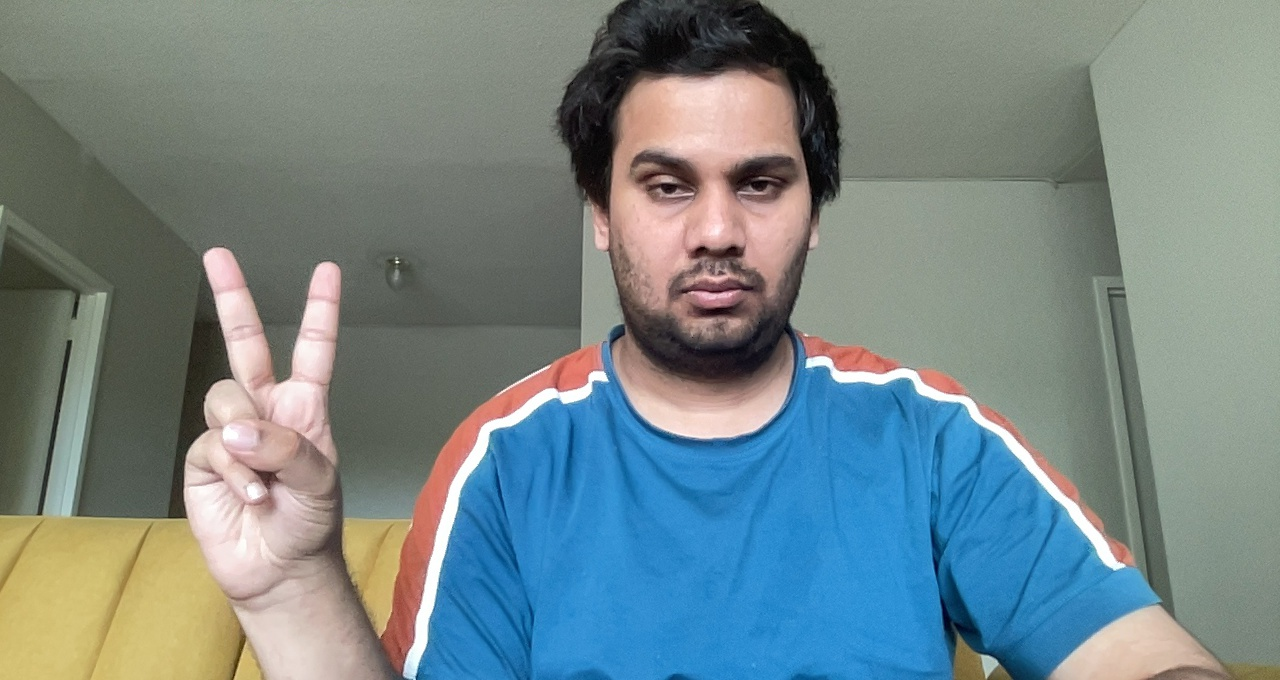peace sign: (178, 235, 358, 603)
